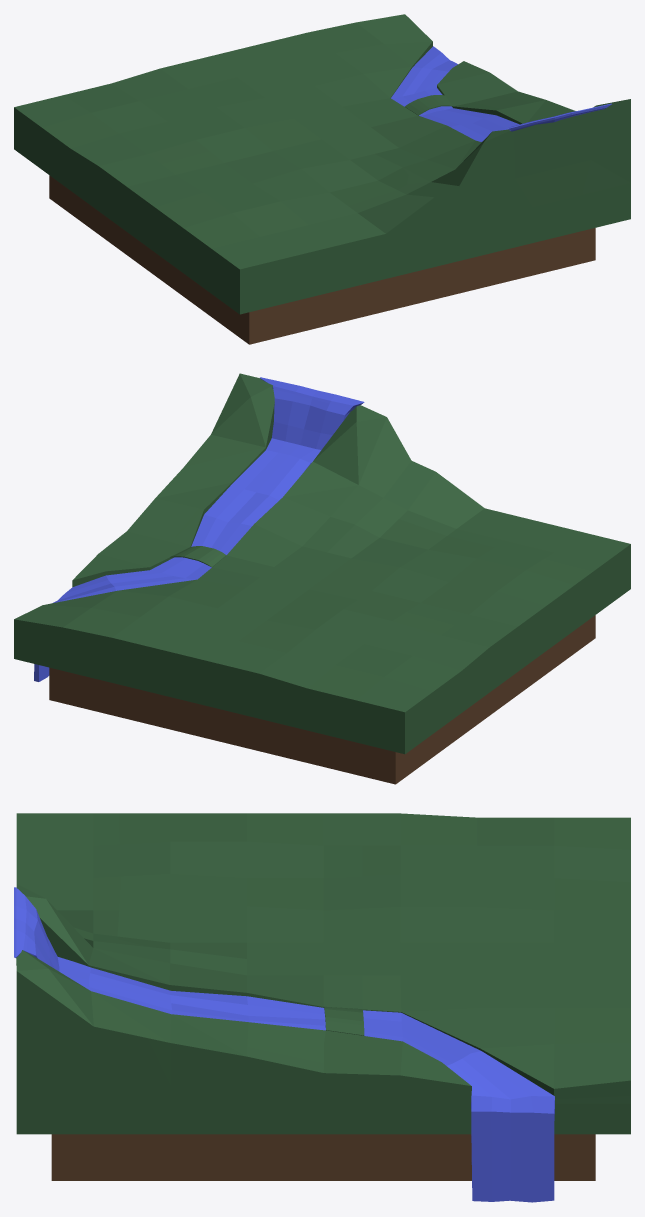
The model's file is Hintergrund Abgabe.fbx.
3 views of the same model, one above another, from view 1: azimuth 30°, elevation 25°; view 2: azimuth 150°, elevation 25°; view 3: azimuth 270°, elevation 25° (orthographic). The views are drawn at different scales.
Visible parts, largest first — view 1: Grasboden; view 2: Grasboden; view 3: Grasboden.
Boxes of the visible parts, x1,y1,x2,y2 form: Grasboden: (14,14,630,344); Grasboden: (14,373,630,784); Grasboden: (14,813,630,1202).
Bounding box in the file's own units: 2296 × 920 × 2257.
